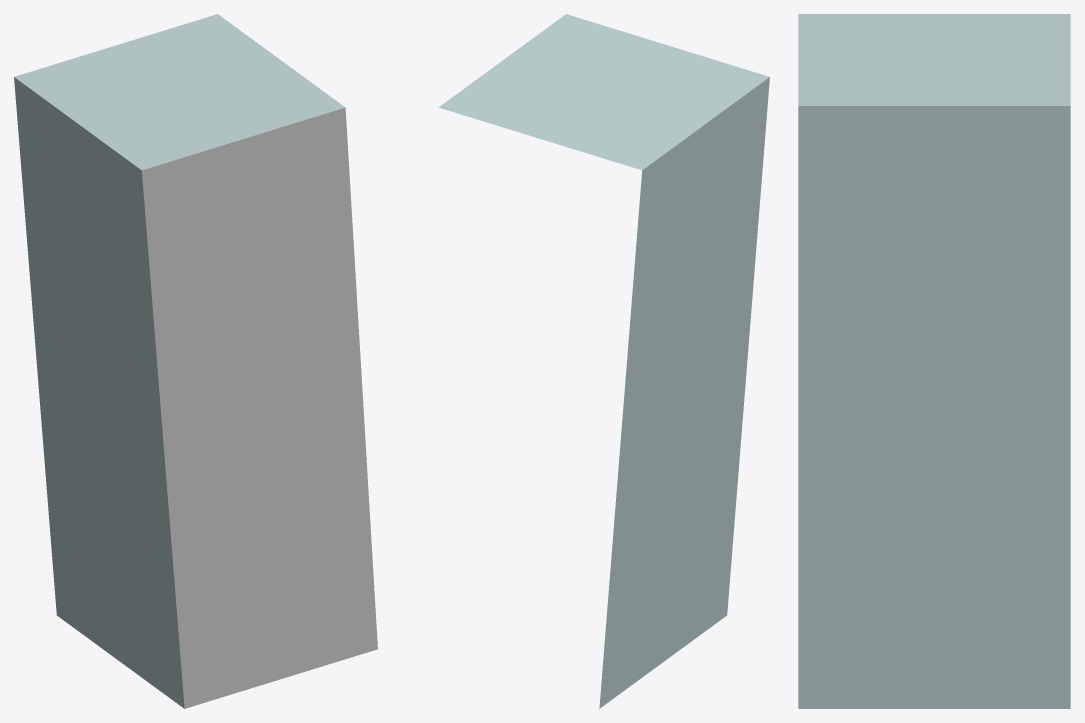
The picture shows the model from 3 angles, left to right: view 1: azimuth 30°, elevation 25°; view 2: azimuth 150°, elevation 25°; view 3: azimuth 270°, elevation 25°; orthographic projection. The views are drawn at different scales.
Visible parts, largest first — view 1: 0_1_2_1_1_3_3_3_2; view 2: 0_1_2_1_1_3_3_3_2; view 3: 0_1_2_1_1_3_3_3_2.
Boxes of the visible parts, bbox=[...] form: 0_1_2_1_1_3_3_3_2: bbox=[14, 14, 377, 708]; 0_1_2_1_1_3_3_3_2: bbox=[438, 14, 769, 708]; 0_1_2_1_1_3_3_3_2: bbox=[798, 14, 1070, 708].
Bounding box in the file's own units: 3.2 × 7.28 × 3.
